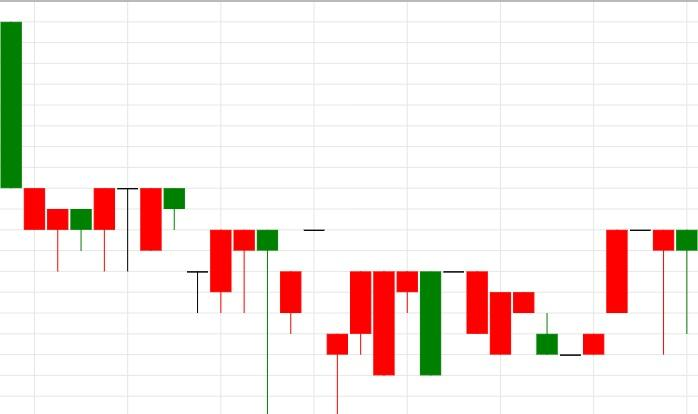evening_star_fall: (326, 270, 489, 413)
hanging_man_fall: (536, 229, 698, 356)
morning_star_rise: (349, 270, 605, 377)
